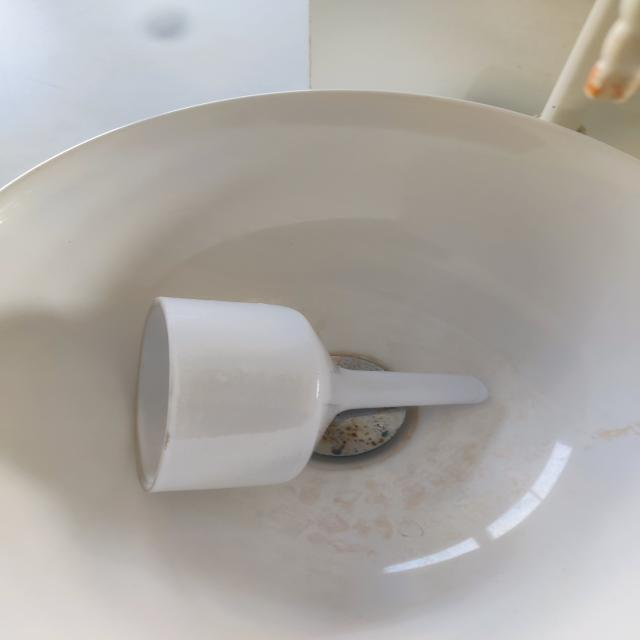Buchner_Funnel: (92, 239, 529, 527)
